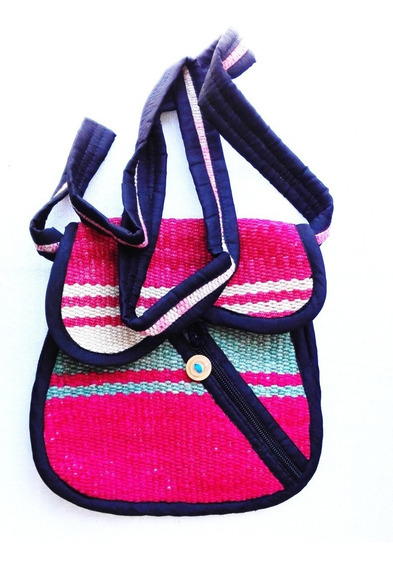cartera: (23, 30, 335, 517)
